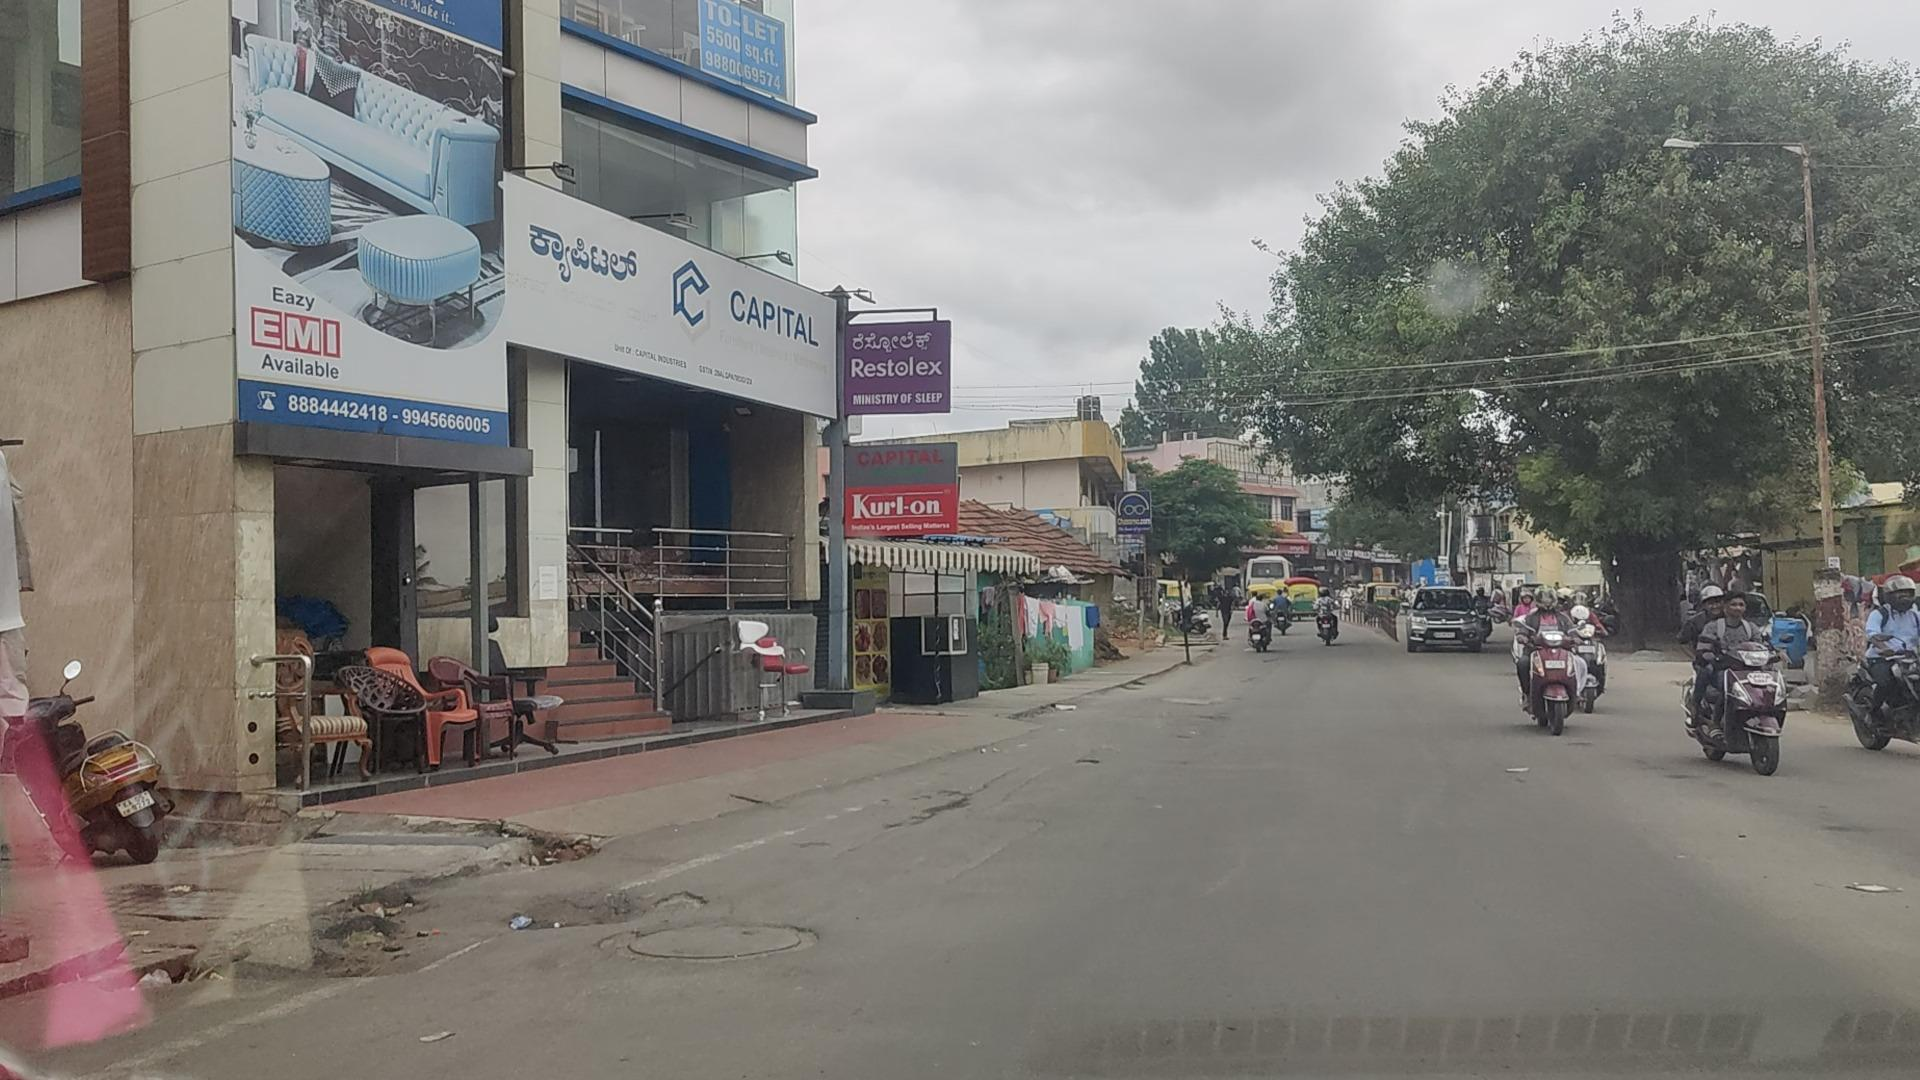RoadDamages: (239, 906, 460, 986), (500, 881, 711, 940), (592, 922, 828, 971), (971, 775, 1063, 890), (1156, 690, 1237, 745), (1072, 754, 1106, 777)
